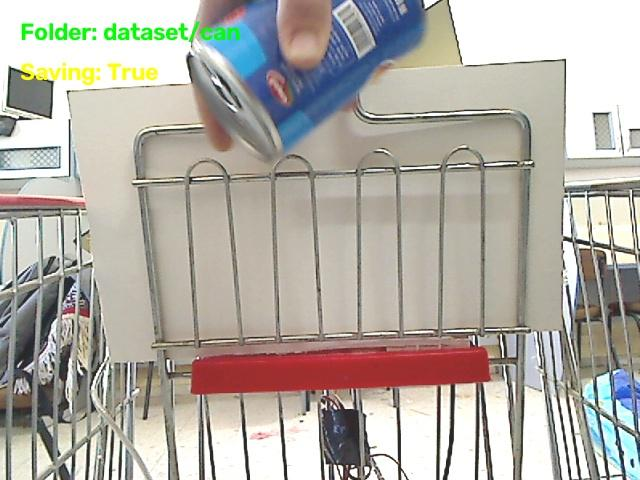can: (188, 0, 424, 160)
